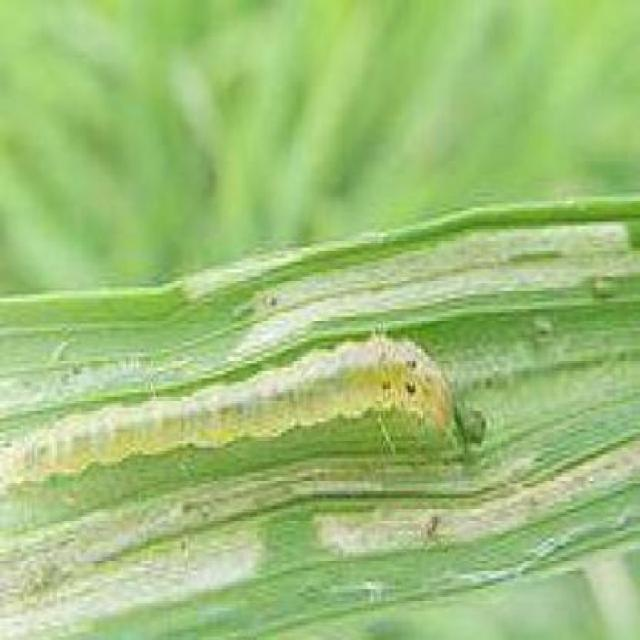leaf-folder: (4, 355, 502, 494)
